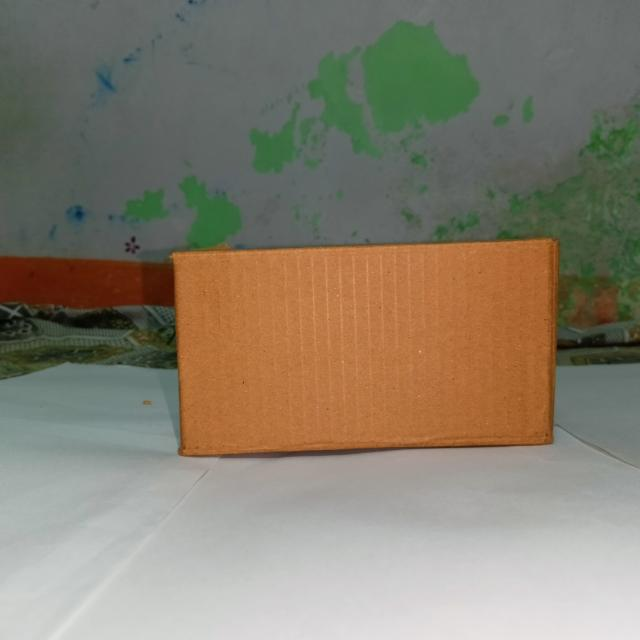box: (176, 243, 554, 455)
